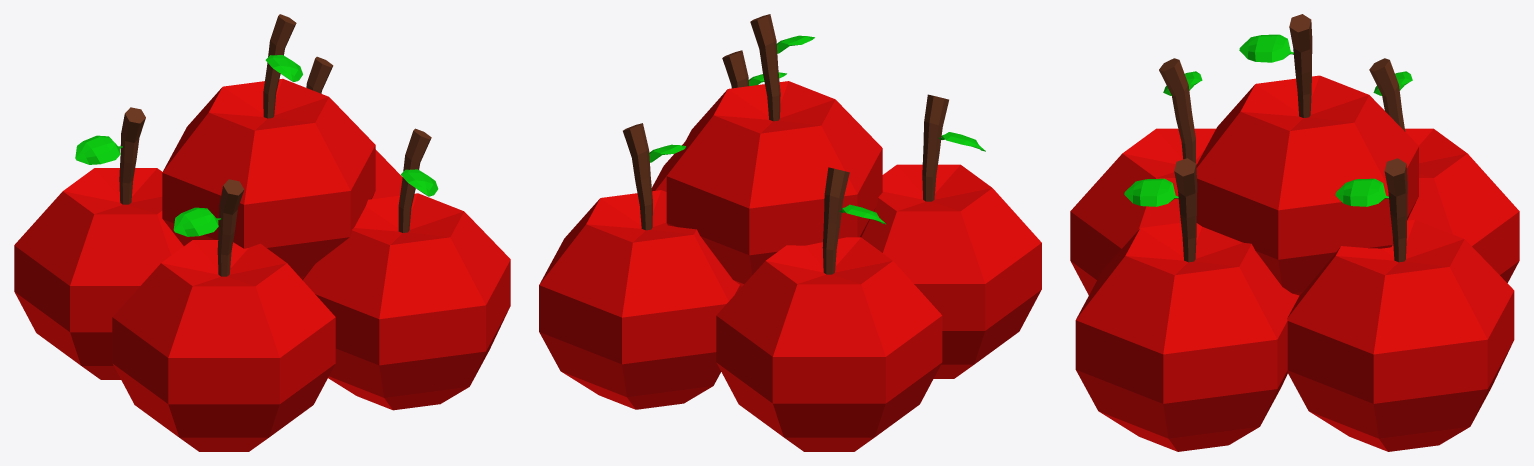
File: Apple 1.fbx
The picture shows the model from 3 angles, left to right: view 1: azimuth 30°, elevation 25°; view 2: azimuth 150°, elevation 25°; view 3: azimuth 270°, elevation 25°; orthographic projection. The views are drawn at different scales.
Visible parts, largest first — view 1: Esfera, Esfera.001, Esfera.002, Esfera.004, Esfera.003; view 2: Esfera.004, Esfera.003, Esfera.002, Esfera, Esfera.001; view 3: Esfera.003, Esfera.001, Esfera.002, Esfera, Esfera.004.
Part boxes in pixels (x1,y1,x2,y2): Esfera: (112, 179, 335, 451); Esfera.001: (302, 128, 510, 410); Esfera.002: (162, 14, 375, 278); Esfera.004: (14, 107, 183, 379); Esfera.003: (306, 56, 402, 199); Esfera.004: (716, 167, 942, 451); Esfera.003: (539, 123, 741, 409); Esfera.002: (666, 14, 882, 286); Esfera: (861, 94, 1041, 378); Esfera.001: (652, 50, 786, 191); Esfera.003: (1287, 158, 1514, 451); Esfera.001: (1075, 158, 1299, 451); Esfera.002: (1196, 14, 1418, 295); Esfera: (1070, 58, 1215, 295); Esfera.004: (1369, 58, 1519, 282).
Bounding box in the file's own units: 361 × 340 × 367.
